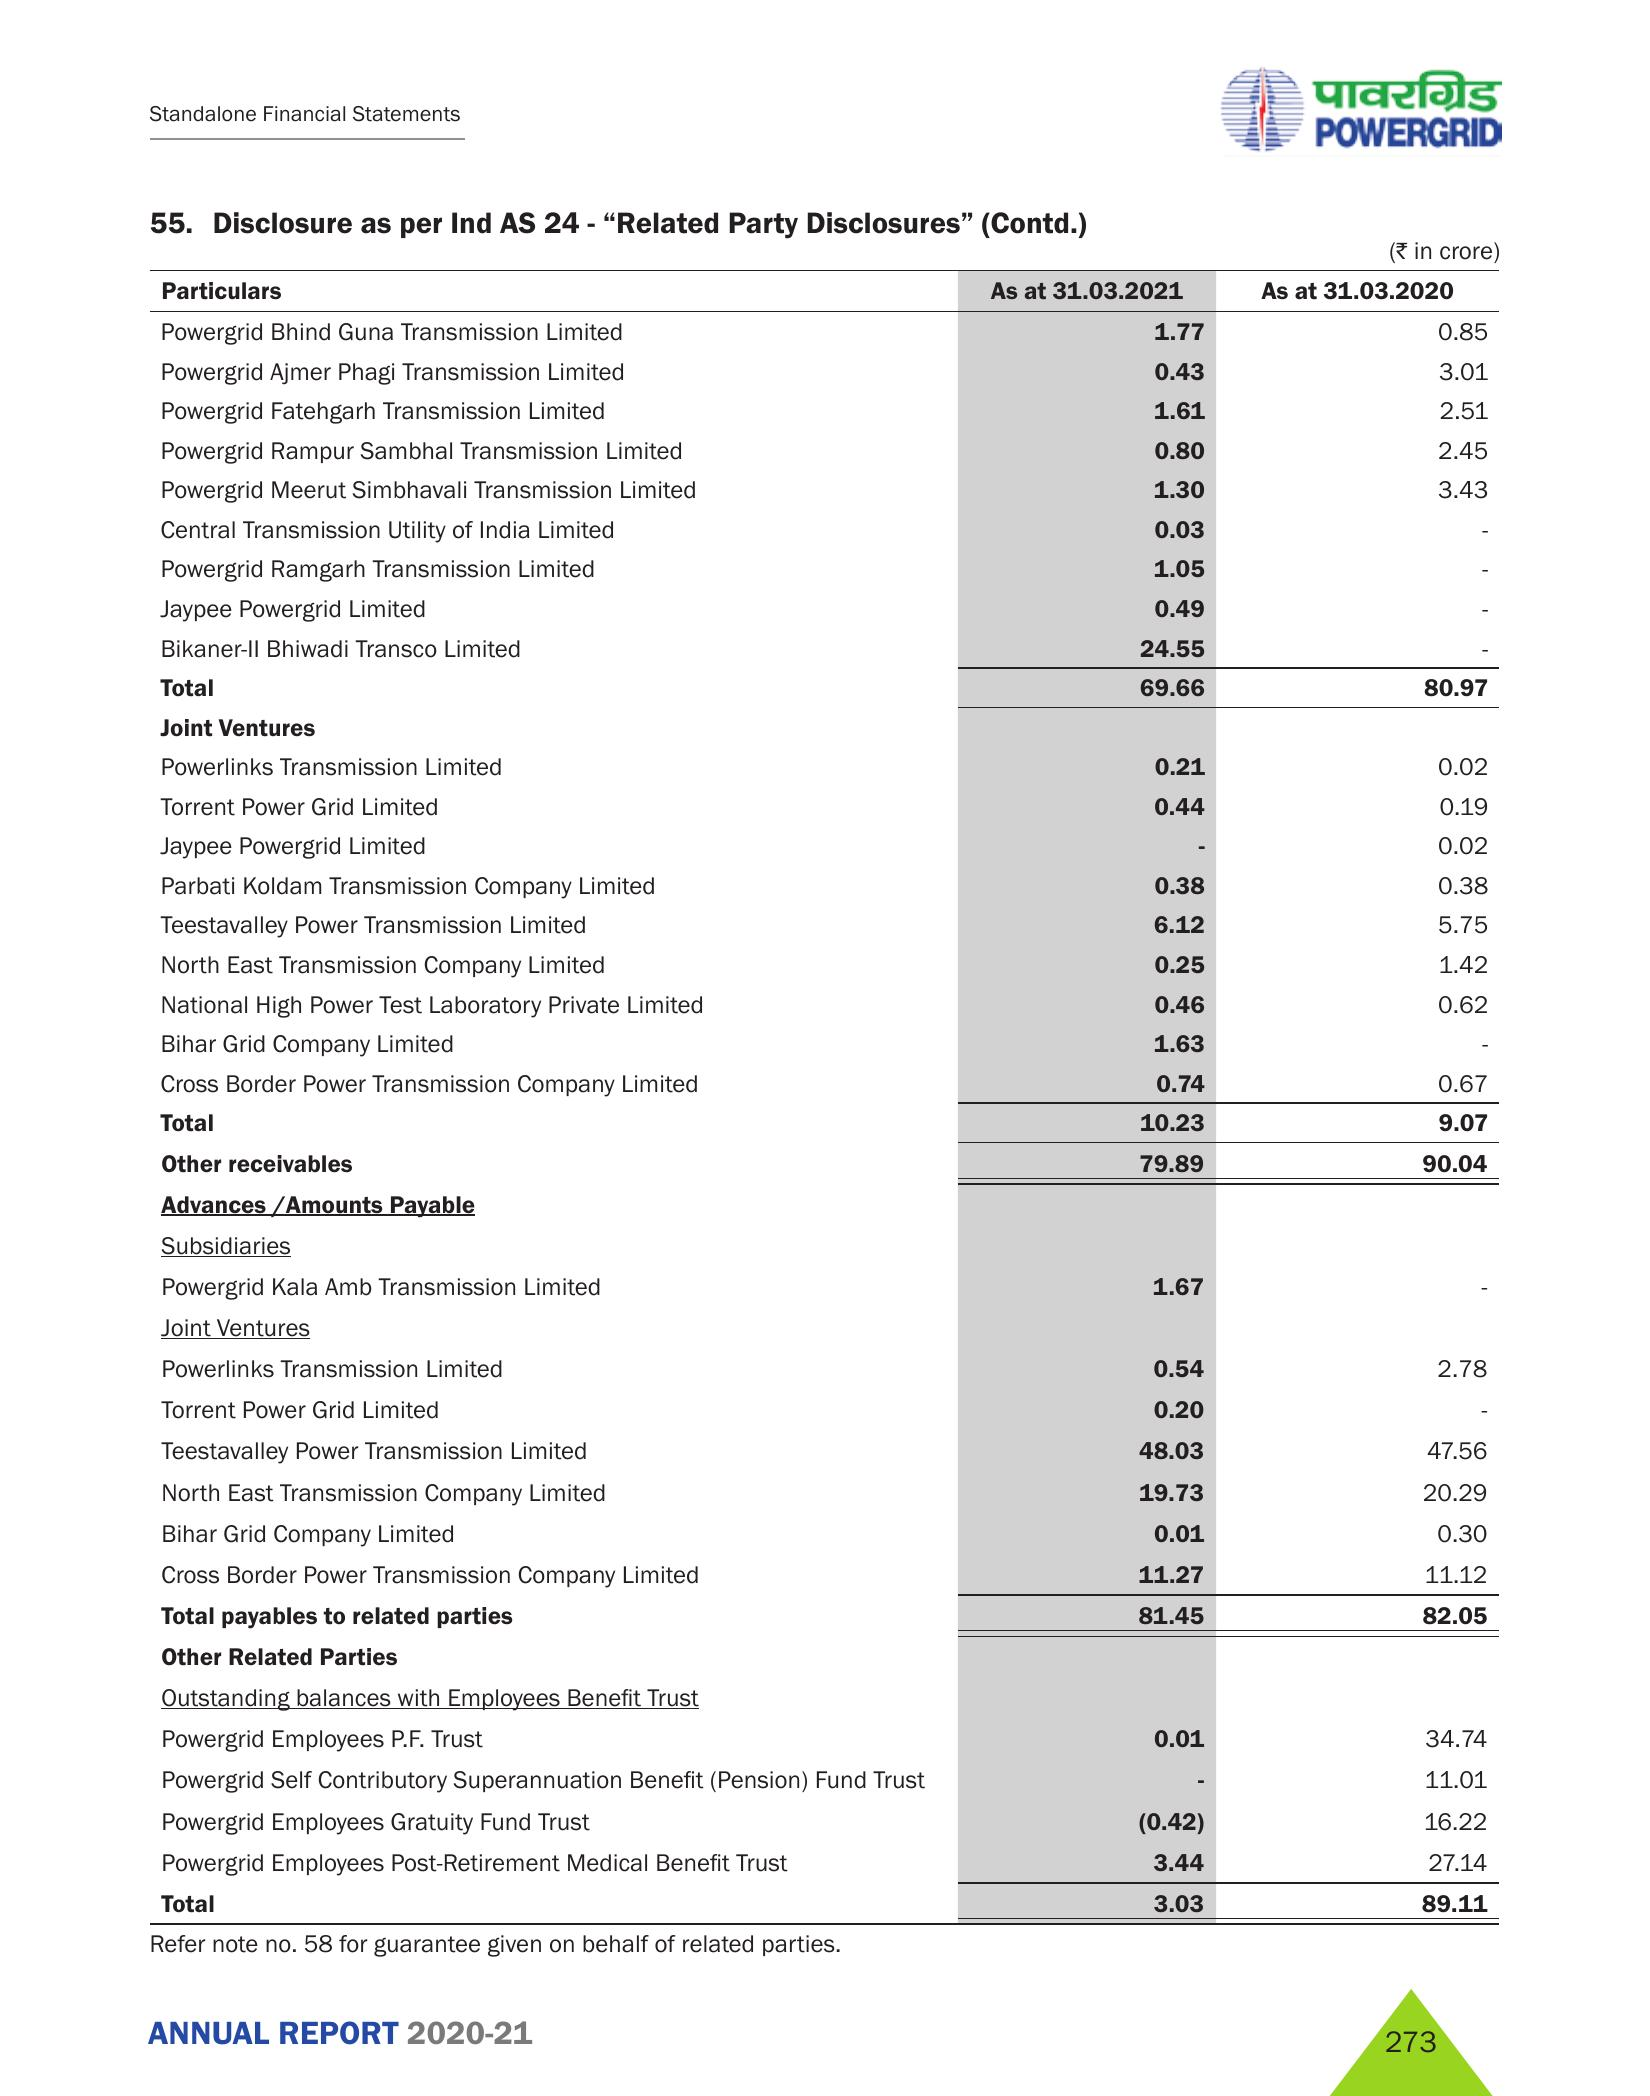Footer: (0, 1965, 1650, 2096)
Header: (0, 0, 1650, 163)
Table: (122, 265, 1504, 1968)
